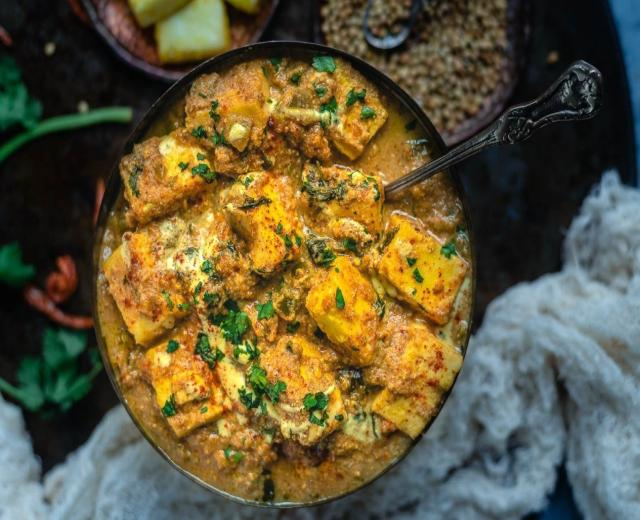kadai paneer: (94, 43, 475, 506)
